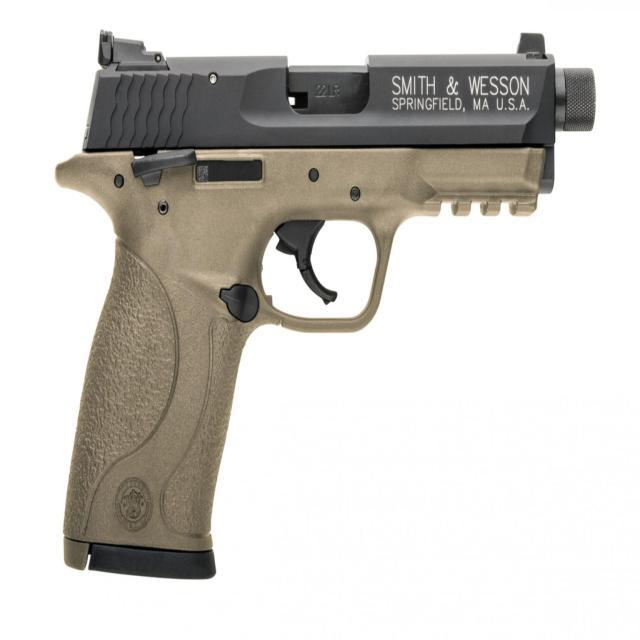Pistol: (35, 11, 609, 601)
